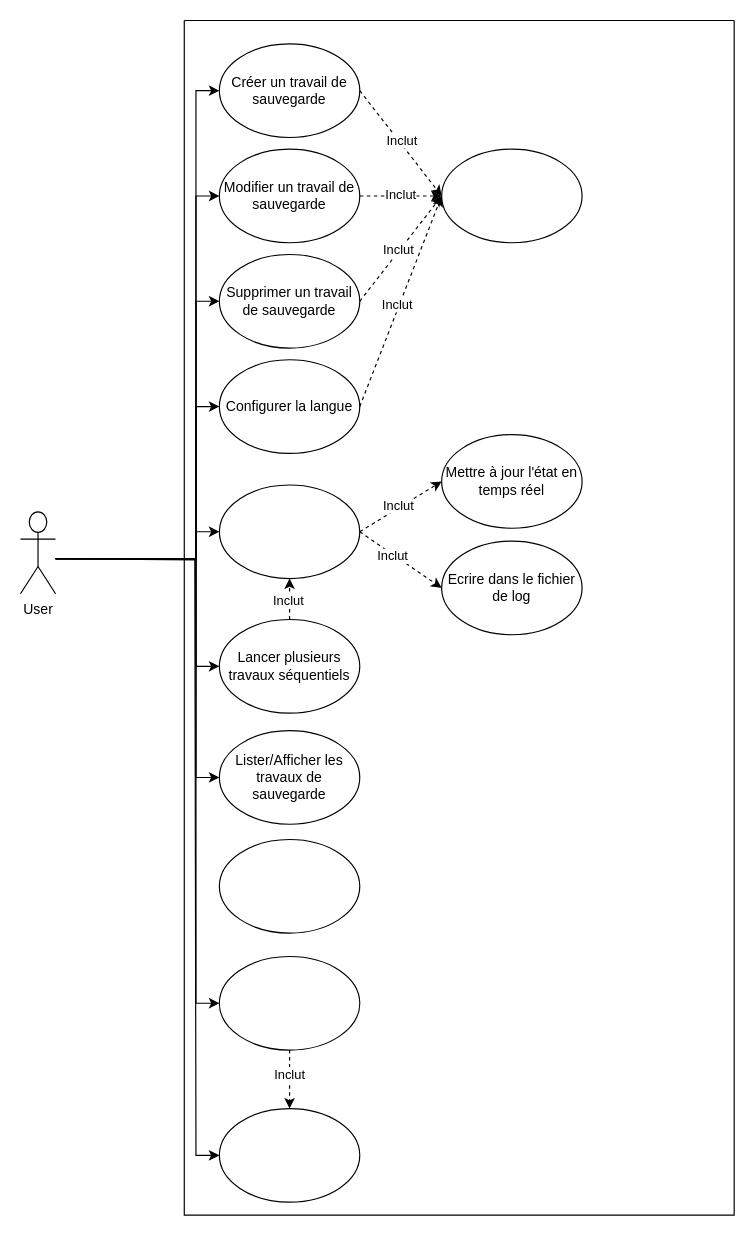
Some shapes in this 755 by 1236 pixel diagram are drawn without their labels. The centre of each missing label's shape, as x and y in pixels:
"Afficher l'état d'un travail de sauvegarde" belongs at point 289,885.
"Afficher le fichier de log des sauvegardes" belongs at point 289,1002.
"Choisir le format du fichier XML/JSON" belongs at point 289,1154.
"Lancer un travail de sauvegarde" belongs at point 289,531.
"Sauvegarder/Mettre à jour le fichier configuration" belongs at point 511,195.
